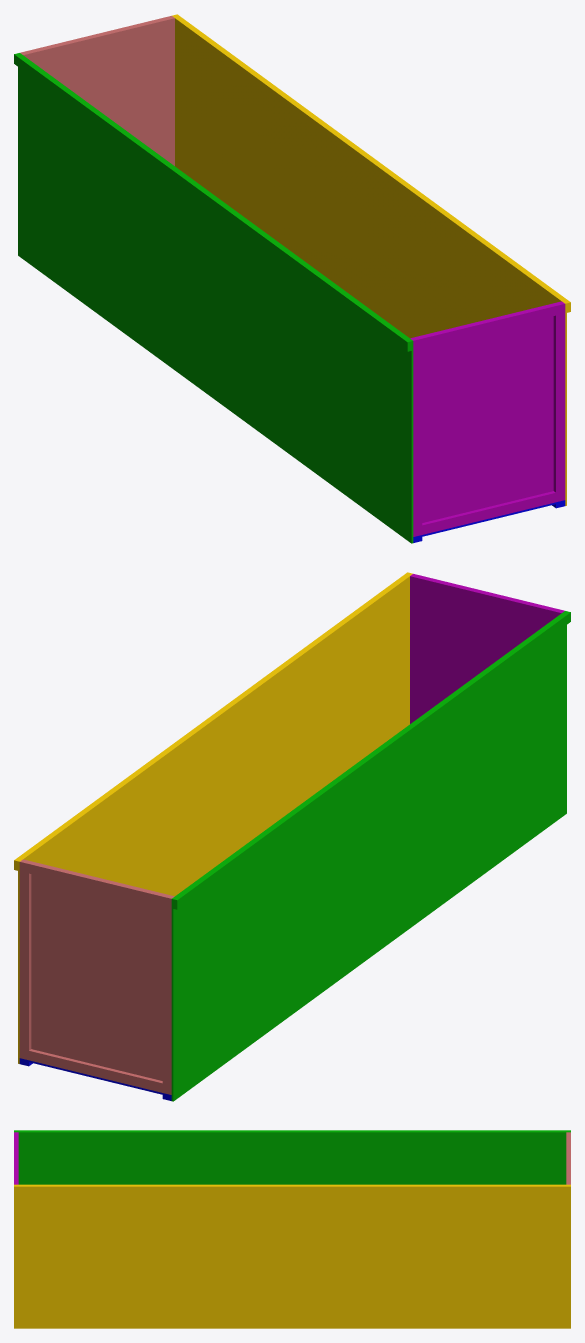
Rendered from result.glb.
3 views of the same model, one above another, from view 1: azimuth 30°, elevation 25°; view 2: azimuth 150°, elevation 25°; view 3: azimuth 270°, elevation 25° (orthographic). The views are drawn at different scales.
Parts seen in each view (by area): view 1: bc705cfc-d749-4f34-9ef0-ea1422cc9f72__Box_6, b8c548f5-a685-49d2-ae60-3faaddafe1d2__undefined, d9f741ae-d400-4fbb-b797-437adcf1cb5d__Box_3, a1ce227b-c550-4ce0-a781-b8d865433c20__undefined, b350b8e1-d06b-4d04-b567-165dfd37c9eb__Box_7, 87de9ea5-6532-4a65-a869-dd377f066f72__undefined, d824cd49-a9eb-4952-ace7-59a952413a59__Box_4, 627880e8-8bc2-42cd-b298-16188bc35226__undefined, aa739912-5583-4d89-b151-593294584871__undefined, a99991ae-edee-4cd7-992e-2a6dfceb444c__Box_5; view 2: bc705cfc-d749-4f34-9ef0-ea1422cc9f72__Box_6, b8c548f5-a685-49d2-ae60-3faaddafe1d2__undefined, a1ce227b-c550-4ce0-a781-b8d865433c20__undefined, d9f741ae-d400-4fbb-b797-437adcf1cb5d__Box_3, b350b8e1-d06b-4d04-b567-165dfd37c9eb__Box_7, 413300c0-ce13-4424-9c53-0f50dabcca41__undefined, 4144f729-b077-4138-ae4b-23d67f808d78__undefined, 627880e8-8bc2-42cd-b298-16188bc35226__undefined, bcdf16cc-306d-458a-9765-82974839995b__undefined, 1d2c7fc8-fed4-4e33-9476-78d41f91519d__undefined; view 3: b8c548f5-a685-49d2-ae60-3faaddafe1d2__undefined, bc705cfc-d749-4f34-9ef0-ea1422cc9f72__Box_6, 627880e8-8bc2-42cd-b298-16188bc35226__undefined, b350b8e1-d06b-4d04-b567-165dfd37c9eb__Box_7.
Part boxes in pixels (x1,y1,x2,y2): bc705cfc-d749-4f34-9ef0-ea1422cc9f72__Box_6: (18, 53, 413, 543); b8c548f5-a685-49d2-ae60-3faaddafe1d2__undefined: (172, 15, 566, 505); d9f741ae-d400-4fbb-b797-437adcf1cb5d__Box_3: (410, 301, 562, 522); a1ce227b-c550-4ce0-a781-b8d865433c20__undefined: (22, 17, 174, 165); b350b8e1-d06b-4d04-b567-165dfd37c9eb__Box_7: (14, 53, 411, 351); 87de9ea5-6532-4a65-a869-dd377f066f72__undefined: (553, 302, 565, 502); d824cd49-a9eb-4952-ace7-59a952413a59__Box_4: (411, 337, 422, 536); 627880e8-8bc2-42cd-b298-16188bc35226__undefined: (174, 14, 570, 312); aa739912-5583-4d89-b151-593294584871__undefined: (420, 304, 555, 347); a99991ae-edee-4cd7-992e-2a6dfceb444c__Box_5: (422, 491, 555, 534); bc705cfc-d749-4f34-9ef0-ea1422cc9f72__Box_6: (171, 611, 566, 1101); b8c548f5-a685-49d2-ae60-3faaddafe1d2__undefined: (18, 573, 412, 1063); a1ce227b-c550-4ce0-a781-b8d865433c20__undefined: (22, 859, 174, 1080); d9f741ae-d400-4fbb-b797-437adcf1cb5d__Box_3: (410, 575, 562, 723); b350b8e1-d06b-4d04-b567-165dfd37c9eb__Box_7: (173, 611, 570, 909); 413300c0-ce13-4424-9c53-0f50dabcca41__undefined: (19, 860, 31, 1060); 4144f729-b077-4138-ae4b-23d67f808d78__undefined: (162, 895, 173, 1094); 627880e8-8bc2-42cd-b298-16188bc35226__undefined: (14, 572, 410, 870); bcdf16cc-306d-458a-9765-82974839995b__undefined: (29, 862, 164, 905); 1d2c7fc8-fed4-4e33-9476-78d41f91519d__undefined: (29, 1049, 162, 1092); b8c548f5-a685-49d2-ae60-3faaddafe1d2__undefined: (14, 1184, 570, 1328); bc705cfc-d749-4f34-9ef0-ea1422cc9f72__Box_6: (14, 1131, 570, 1184); 627880e8-8bc2-42cd-b298-16188bc35226__undefined: (14, 1185, 570, 1193); b350b8e1-d06b-4d04-b567-165dfd37c9eb__Box_7: (14, 1130, 570, 1131).
Size of the model in its own units: 732 by 866 by 3052.
